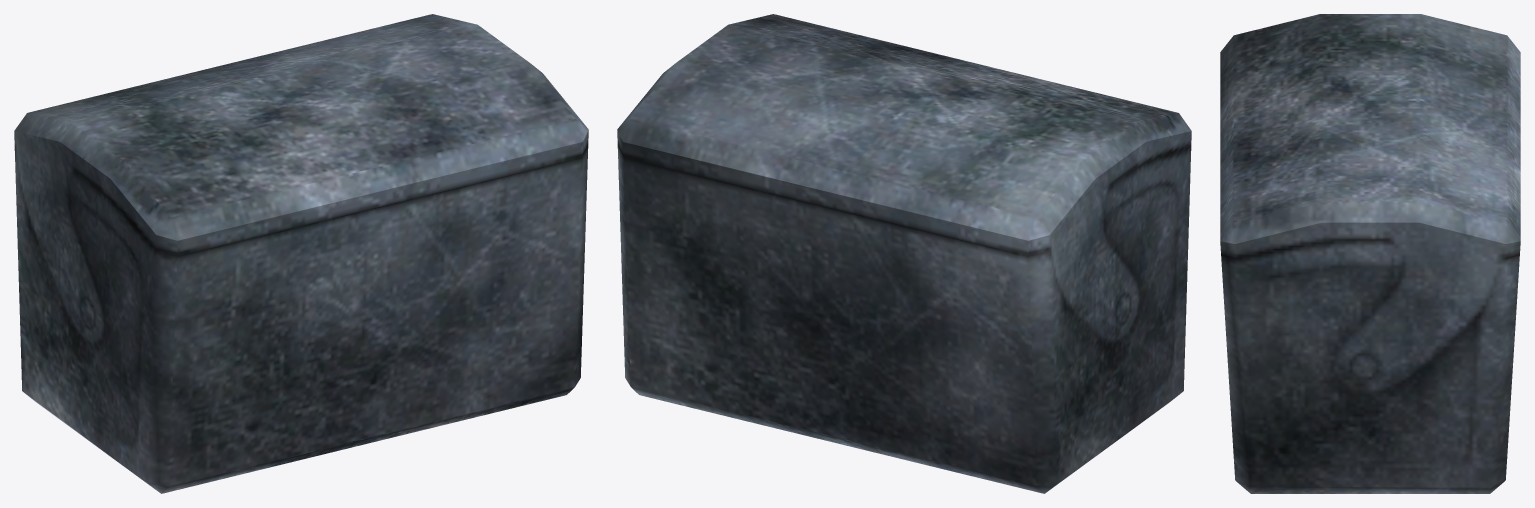
File: Trashcan.gltf
The picture shows the model from 3 angles, left to right: view 1: azimuth 30°, elevation 25°; view 2: azimuth 150°, elevation 25°; view 3: azimuth 270°, elevation 25°; orthographic projection. The views are drawn at different scales.
Parts seen in each view (by area): view 1: Box01; view 2: Box01; view 3: Box01.
Part boxes in pixels (x1=…): Box01: x1=14, y1=14, x2=588, y2=493; Box01: x1=617, y1=14, x2=1191, y2=493; Box01: x1=1220, y1=14, x2=1520, y2=493.
Bounding box in the file's own units: 1.89 × 1.27 × 1.19.
Materials: 1 (1 with a texture image).
